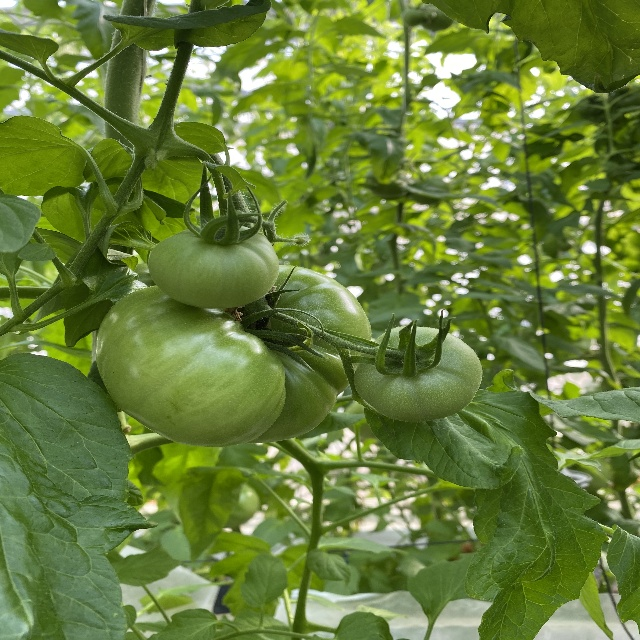b_green: (96, 266, 372, 447), (352, 325, 483, 422), (148, 226, 279, 308)
